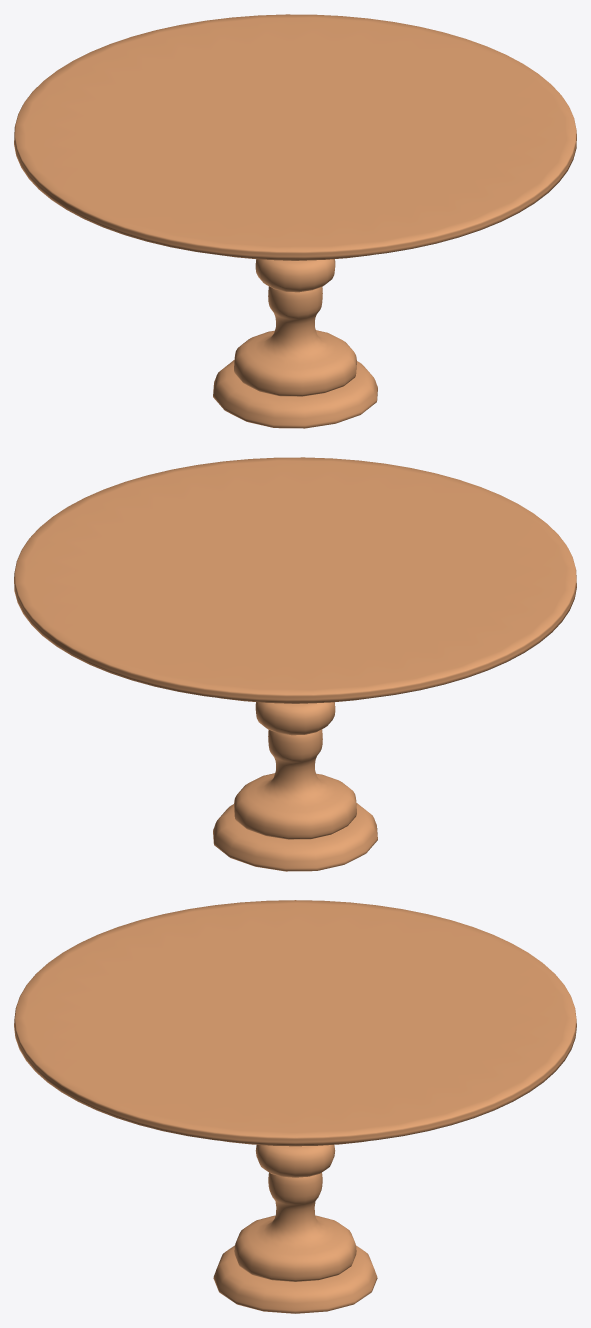
Rendered from NEW Table.fbx.
3 views of the same model, one above another, from view 1: azimuth 30°, elevation 25°; view 2: azimuth 150°, elevation 25°; view 3: azimuth 270°, elevation 25° (orthographic).
Parts seen in each view (by area): view 1: Table; view 2: Table; view 3: Table.
Part boxes in pixels (x1=…): Table: x1=14, y1=14, x2=576, y2=428; Table: x1=14, y1=457, x2=576, y2=871; Table: x1=14, y1=900, x2=576, y2=1313.
Size of the model in its own units: 99.26 by 51.13 by 99.26.
